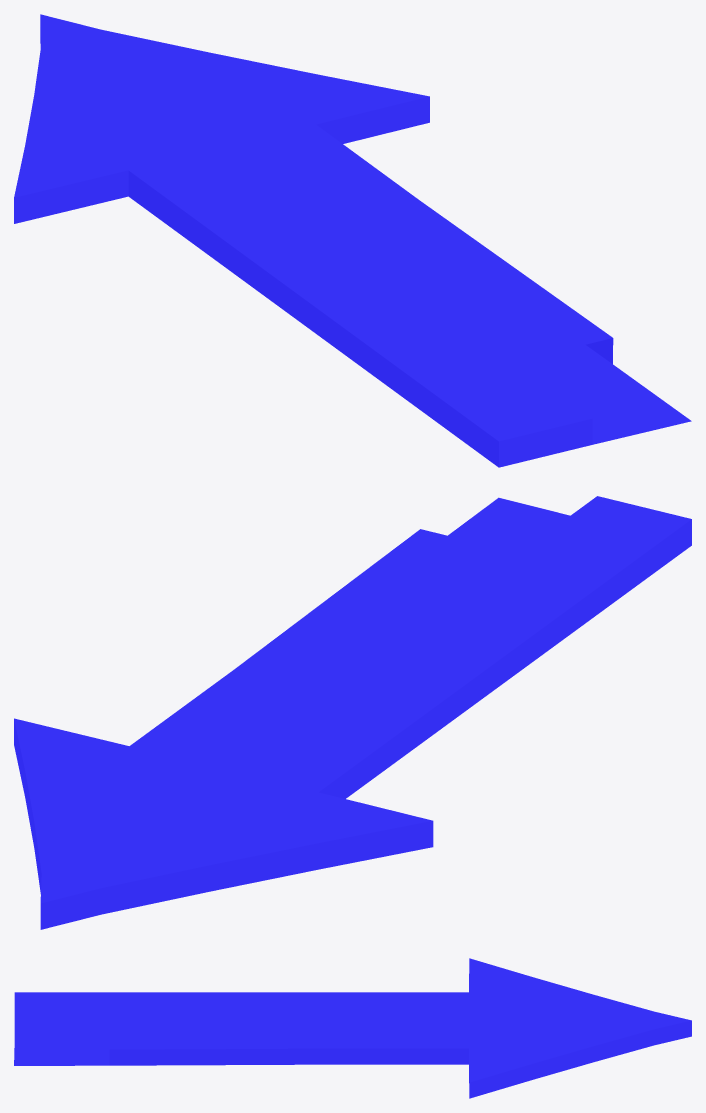
File: SingleArrowSignHint.glb
The picture shows the model from 3 angles, top to bottom: view 1: azimuth 30°, elevation 25°; view 2: azimuth 150°, elevation 25°; view 3: azimuth 270°, elevation 25°; orthographic projection. The views are drawn at different scales.
Visible parts, largest first — view 1: Plane.001; view 2: Plane.001; view 3: Plane.001.
Part boxes in pixels (x1,y1,x2,y2): Plane.001: (14, 14, 691, 467); Plane.001: (14, 496, 691, 929); Plane.001: (14, 958, 691, 1098).
Bounding box in the file's own units: 1.42 × 0.0852 × 3.26.
